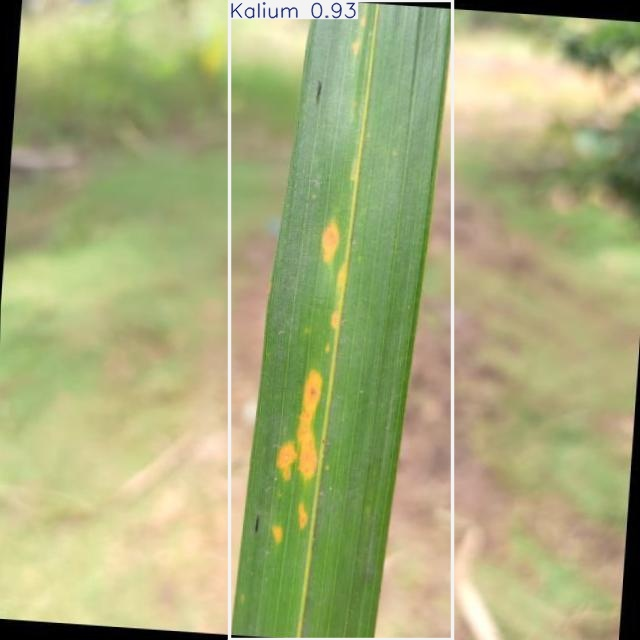Kalium: (230, 1, 452, 640)
